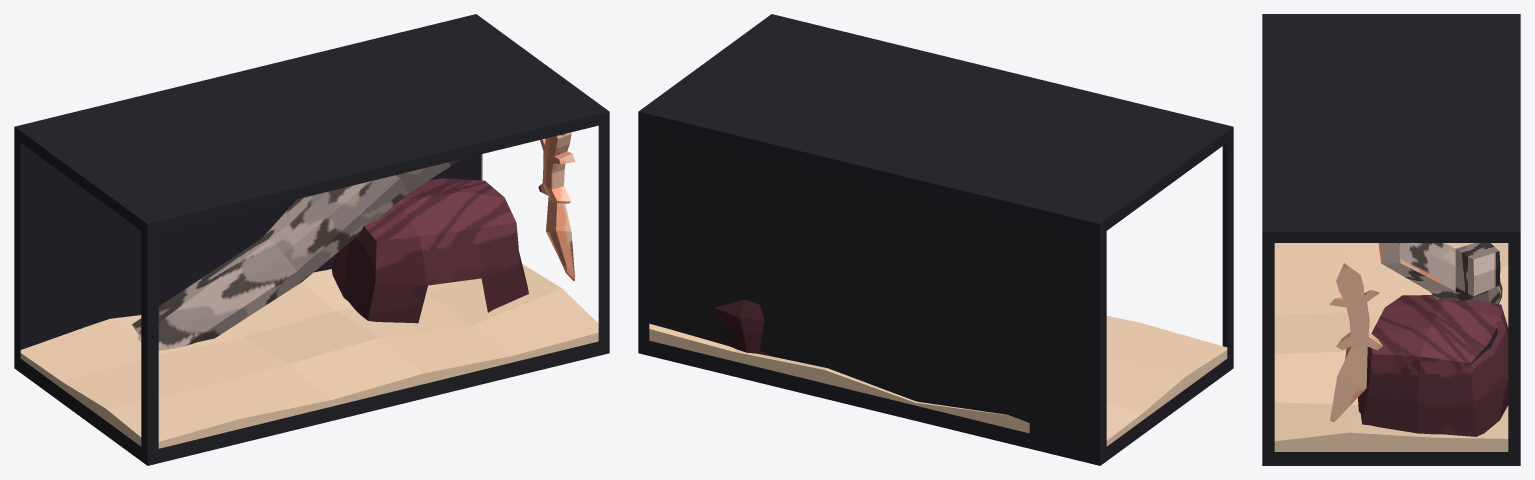
File: Terrarium 2x1x1.fbx
3 renders of one model, left to right at view 1: azimuth 30°, elevation 25°; view 2: azimuth 150°, elevation 25°; view 3: azimuth 270°, elevation 25°, orthographic. The views are drawn at different scales.
Parts seen in each view (by area): view 1: Cube; view 2: Cube; view 3: Cube.
Boxes of the visible parts, left/top/right/bottom form: Cube: left=14, top=14, right=609, bottom=465; Cube: left=638, top=14, right=1233, bottom=465; Cube: left=1262, top=14, right=1520, bottom=465.
Size of the model in its own units: 200 by 100 by 100.
Materials: 1 (1 with a texture image).
